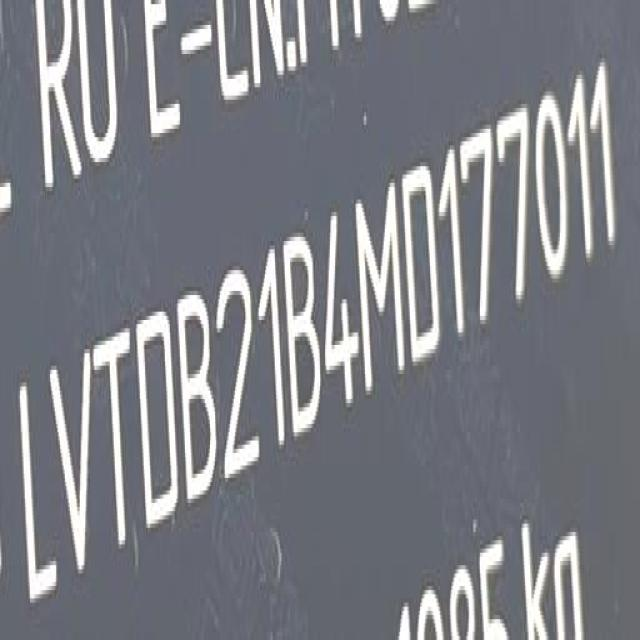0: (534, 85, 566, 289)
1: (257, 236, 288, 454), (564, 74, 597, 266), (436, 151, 468, 340), (590, 63, 620, 251)
2: (217, 259, 261, 491)
4: (323, 210, 360, 406)
7: (497, 105, 535, 312), (460, 129, 498, 323)
B: (178, 277, 216, 505), (284, 214, 322, 439)
D: (134, 304, 184, 532), (401, 150, 441, 383)
L: (15, 383, 59, 605)
M: (355, 183, 407, 399)
T: (92, 323, 133, 562)
V: (48, 342, 93, 579)
